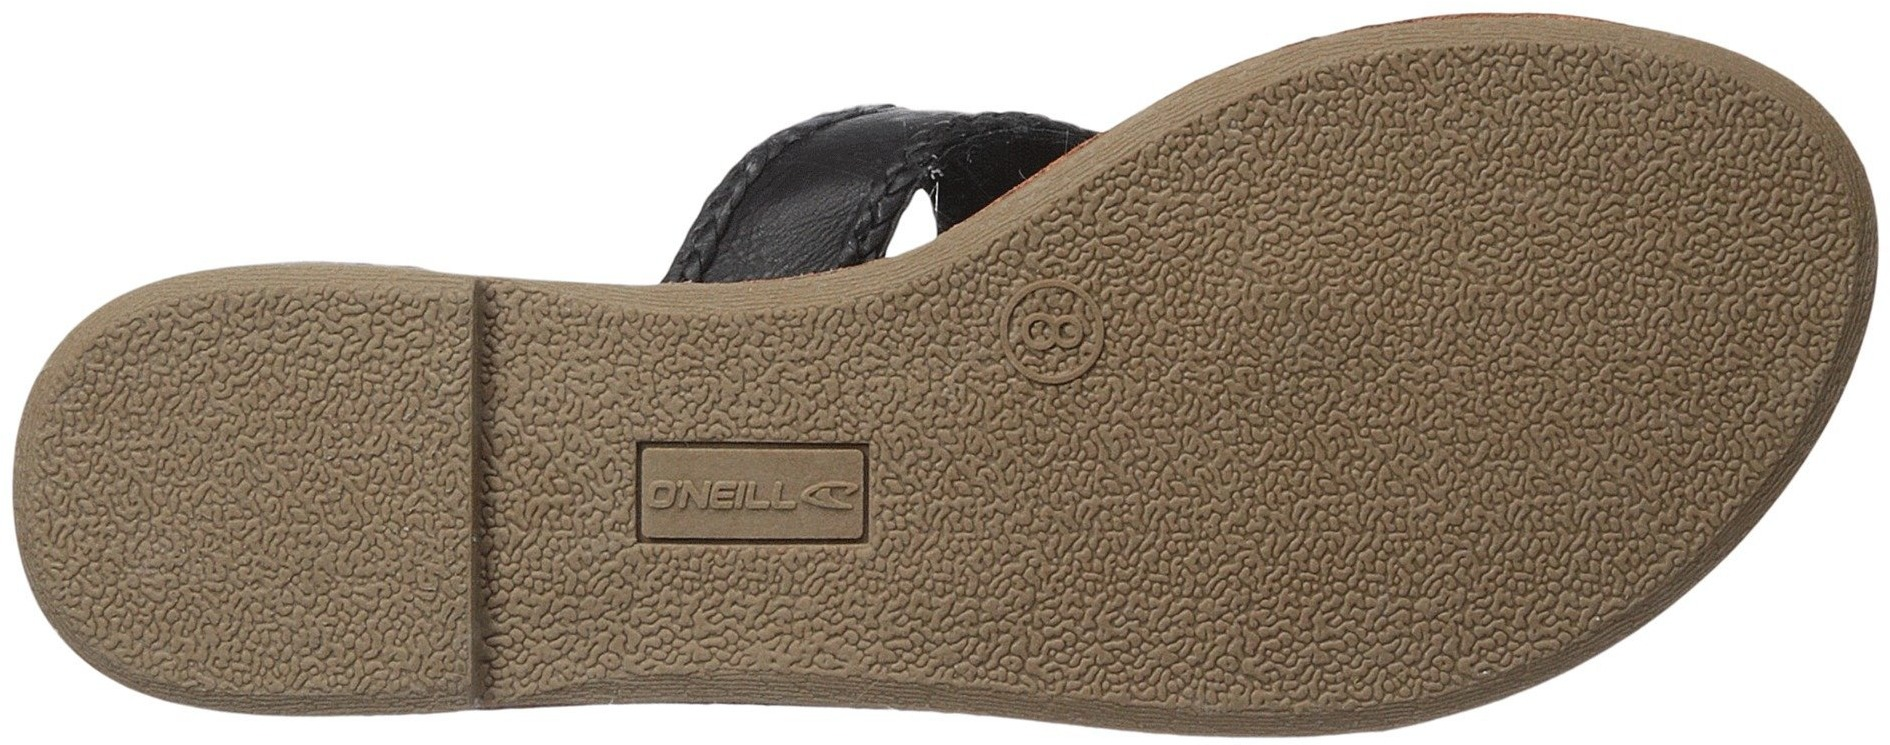other: (1424, 75, 1747, 399), (879, 398, 1172, 696), (1178, 405, 1472, 684), (1151, 139, 1426, 399), (64, 382, 293, 627), (1478, 405, 1661, 583), (303, 495, 474, 663), (300, 317, 469, 486), (494, 317, 636, 476), (488, 555, 620, 677)
text: (750, 447, 849, 541), (648, 463, 740, 541), (1014, 304, 1084, 372)
